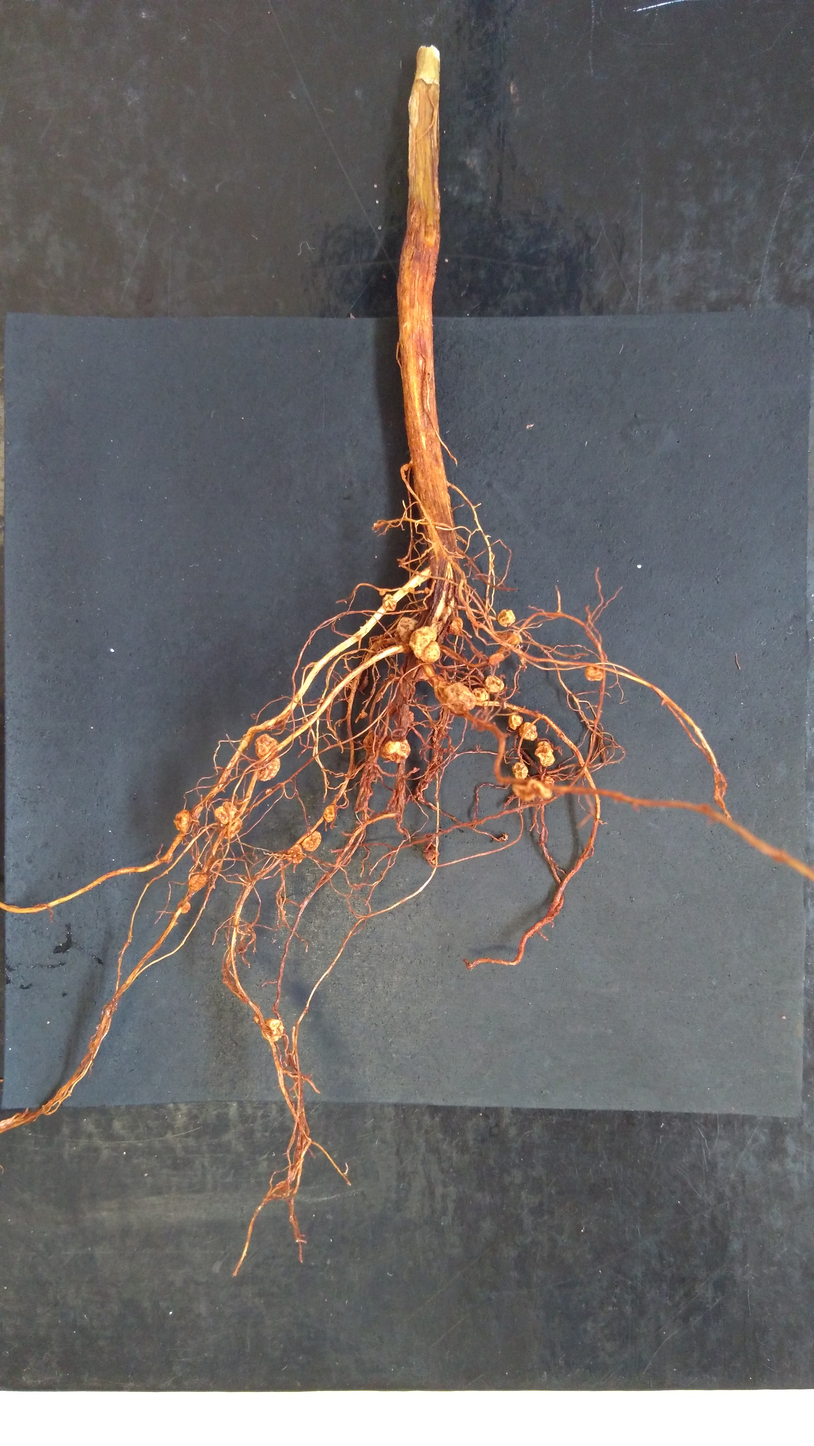nodule: (406, 626, 442, 662), (442, 682, 477, 715), (510, 779, 553, 803), (380, 739, 411, 764), (253, 731, 280, 759), (395, 615, 418, 646), (212, 800, 238, 825), (261, 1016, 285, 1043), (533, 740, 556, 768), (257, 756, 281, 782), (221, 817, 243, 840), (301, 829, 322, 852), (171, 809, 189, 835), (496, 607, 517, 628), (517, 721, 538, 742), (483, 674, 506, 693), (510, 760, 530, 781), (188, 872, 208, 891), (583, 664, 603, 683), (286, 843, 303, 865), (506, 713, 525, 731), (381, 593, 398, 613), (447, 616, 463, 635), (322, 803, 336, 824), (487, 652, 506, 667), (471, 687, 489, 702), (506, 632, 521, 646), (178, 900, 192, 914), (543, 773, 556, 788), (358, 710, 368, 720), (252, 1015, 260, 1024), (406, 587, 416, 593), (423, 586, 429, 595)
